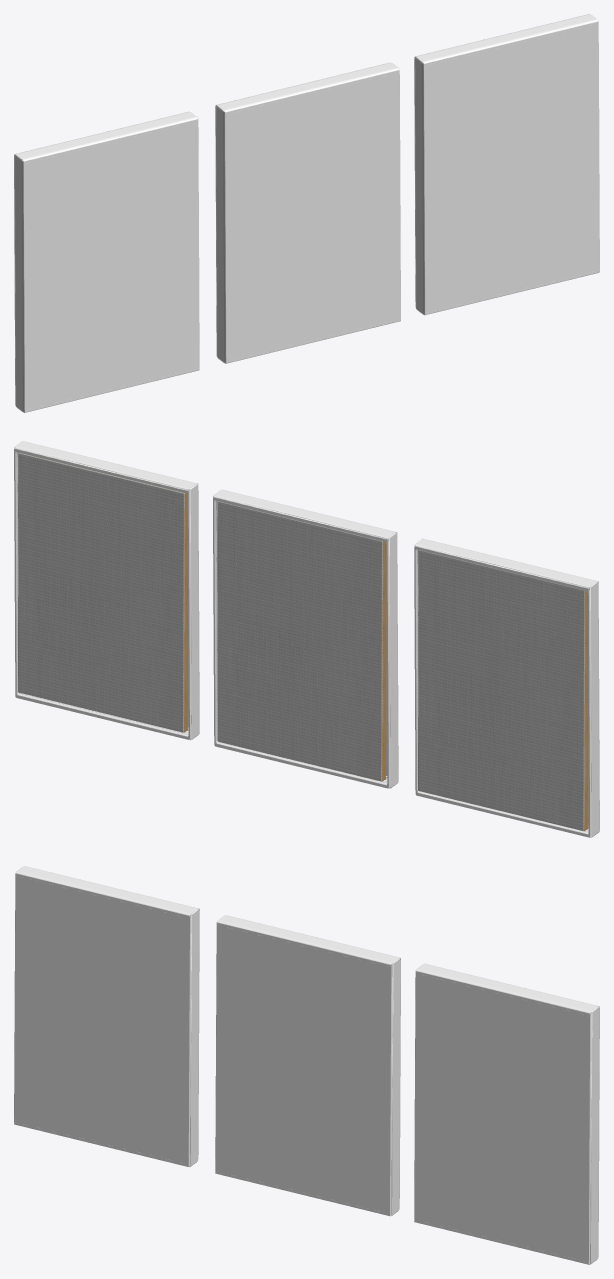
The model's file is canvas-three-piece.glb.
3 views of the same model, one above another, from view 1: azimuth 30°, elevation 25°; view 2: azimuth 150°, elevation 25°; view 3: azimuth 330°, elevation 25° (orthographic).
Visible parts, largest first — view 1: canvas-print_0.009, canvas-print_0.029, canvas-print_0.019; view 2: canvas-print_0.009, canvas-print_0.019, canvas-print_0.029; view 3: canvas-print_0.019, canvas-print_0.009, canvas-print_0.029.
Boxes of the visible parts, x1,y1,x2,y2 form: canvas-print_0.009: (215, 62, 400, 363); canvas-print_0.029: (14, 111, 199, 412); canvas-print_0.019: (414, 14, 599, 315); canvas-print_0.009: (213, 489, 398, 788); canvas-print_0.019: (14, 441, 199, 740); canvas-print_0.029: (414, 538, 599, 837); canvas-print_0.019: (414, 963, 599, 1264); canvas-print_0.009: (215, 915, 400, 1216); canvas-print_0.029: (14, 866, 199, 1167).
Size of the model in its own units: 3.19 by 1.34 by 0.1143.
4 materials, 4 textured.
